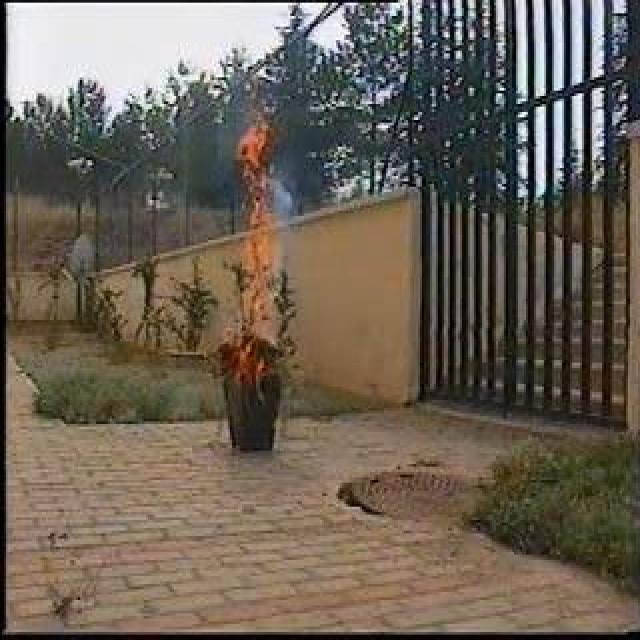fire: (224, 120, 272, 371)
smoke: (270, 172, 306, 257)
